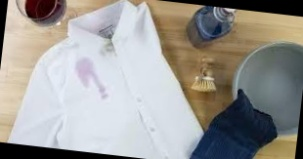wine: (69, 52, 100, 91), (95, 77, 114, 102)
